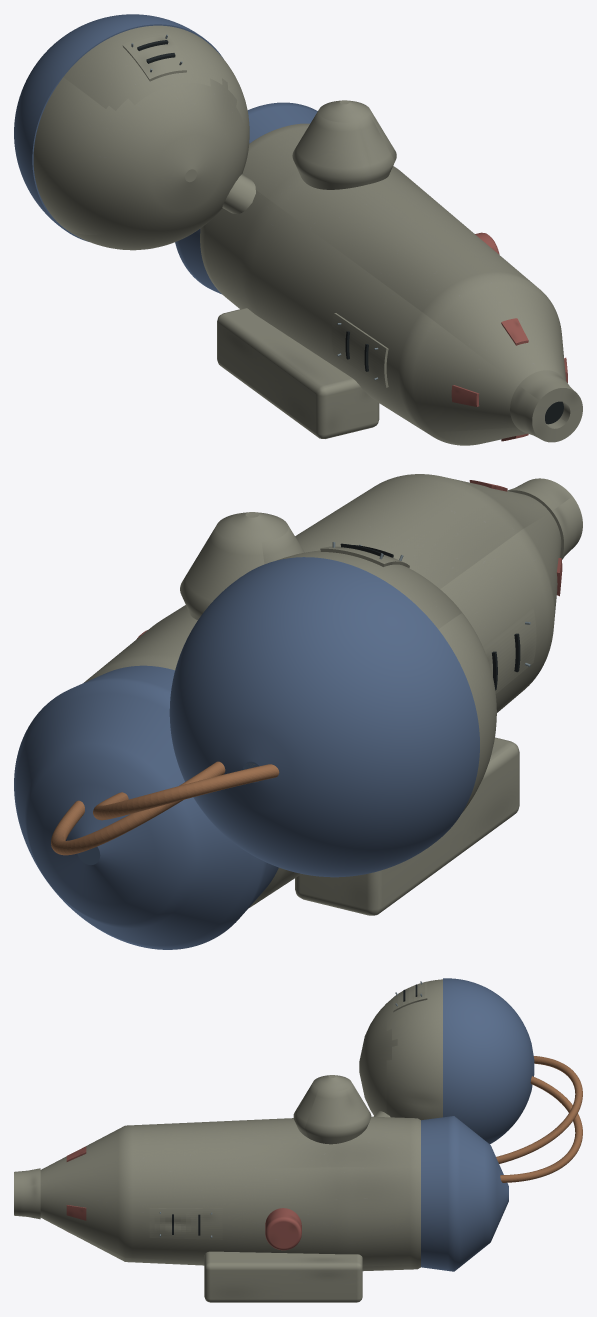
3 renders of one model, top to bottom at view 1: azimuth 30°, elevation 25°; view 2: azimuth 150°, elevation 25°; view 3: azimuth 270°, elevation 25°, orthographic. The views are drawn at different scales.
Parts seen in each view (by area): view 1: Disruptor tapered body, Disruptor large spherical front, Disruptor angular side shield -1, Disruptor rounded upper fitting, Disruptor blue spherical back, Disruptor front annular rim, Disruptor blue rear cap, Disruptor service cover 1, Disruptor service cover 2, Disruptor spherical support; view 2: Disruptor blue spherical back, Disruptor blue rear cap, Disruptor tapered body, Disruptor angular side shield -1, Disruptor large spherical front, Disruptor rounded upper fitting, Disruptor rear copper pipe 0, Disruptor rear copper pipe 1, Disruptor service cover 1, Disruptor front annular rim, Disruptor service cover 2; view 3: Disruptor tapered body, Disruptor blue spherical back, Disruptor blue rear cap, Disruptor large spherical front, Disruptor angular side shield 1, Disruptor rounded upper fitting, Disruptor service cover 0, Disruptor rear copper pipe 0, Disruptor rear copper pipe 1, Disruptor red side boss, Disruptor front annular rim, Disruptor service cover 2.
Part boxes in pixels (box(x1,y1,x2,y2)): Disruptor tapered body: box(200, 123, 565, 445); Disruptor large spherical front: box(33, 25, 249, 250); Disruptor angular side shield -1: box(217, 308, 379, 438); Disruptor rounded upper fitting: box(292, 100, 396, 189); Disruptor blue spherical back: box(14, 14, 223, 241); Disruptor front annular rim: box(510, 370, 582, 442); Disruptor blue rear cap: box(175, 102, 317, 294); Disruptor service cover 1: box(331, 313, 388, 387); Disruptor service cover 2: box(122, 33, 186, 81); Disruptor spherical support: box(222, 174, 255, 214); Disruptor blue spherical back: box(169, 557, 479, 877); Disruptor blue rear cap: box(14, 665, 278, 949); Disruptor tapered body: box(84, 474, 561, 908); Disruptor angular side shield -1: box(295, 737, 519, 915); Disruptor large spherical front: box(250, 550, 496, 812); Disruptor rounded upper fitting: box(180, 512, 304, 620); Disruptor rear copper pipe 0: box(93, 764, 279, 820); Disruptor rear copper pipe 1: box(51, 761, 225, 855); Disruptor service cover 1: box(482, 608, 536, 693); Disruptor front annular rim: box(507, 478, 582, 559); Disruptor service cover 2: box(320, 546, 409, 567); Disruptor tapered body: box(40, 1116, 420, 1271); Disruptor blue spherical back: box(443, 978, 534, 1143); Disruptor blue rear cap: box(421, 1116, 508, 1271); Disruptor large spherical front: box(359, 979, 442, 1120); Disruptor angular side shield 1: box(204, 1251, 362, 1302); Disruptor rounded upper fitting: box(293, 1075, 371, 1144); Disruptor service cover 0: box(149, 1208, 222, 1239); Disruptor rear copper pipe 0: box(496, 1056, 582, 1163); Disruptor rear copper pipe 1: box(500, 1076, 582, 1182); Disruptor red side boss: box(265, 1208, 301, 1250); Disruptor front annular rim: box(14, 1168, 40, 1219); Disruptor service cover 2: box(393, 981, 427, 1012).
Size of the model in its own units: 1.24 by 1.03 by 2.33.
Materials: 6 (3 with a texture image).
